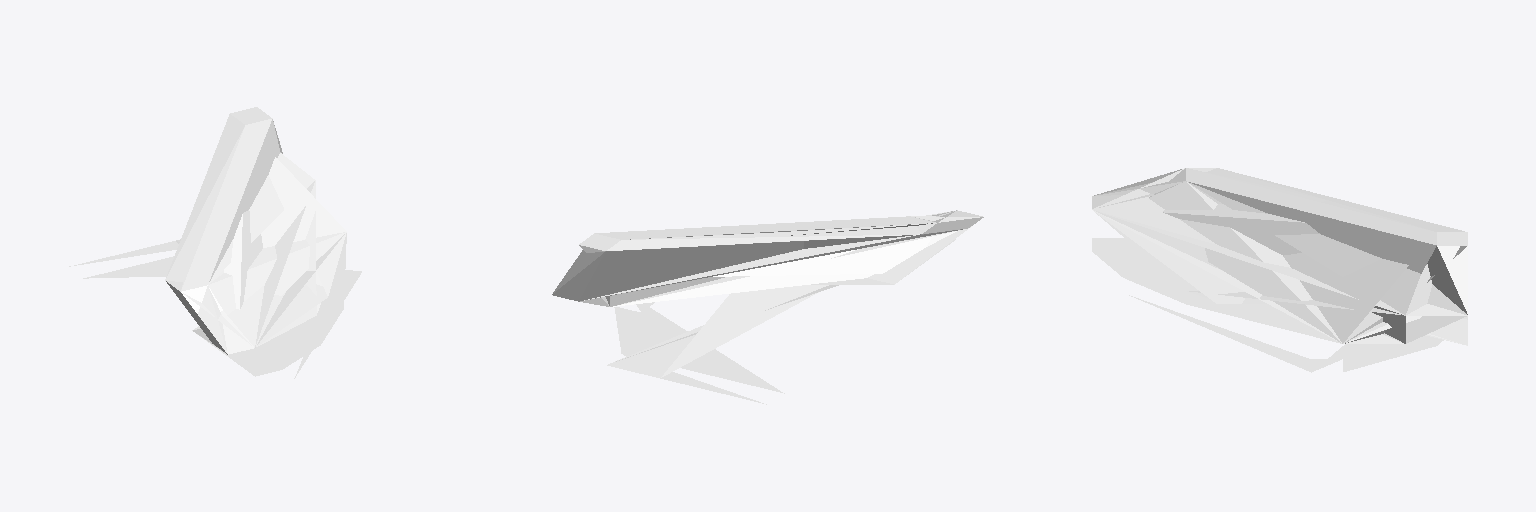
File: Rubble2.obj
3 views of the same model, side by side, from view 1: azimuth 30°, elevation 25°; view 2: azimuth 150°, elevation 25°; view 3: azimuth 270°, elevation 25° (orthographic).
Bounding box in the file's own units: 9 × 4 × 12.